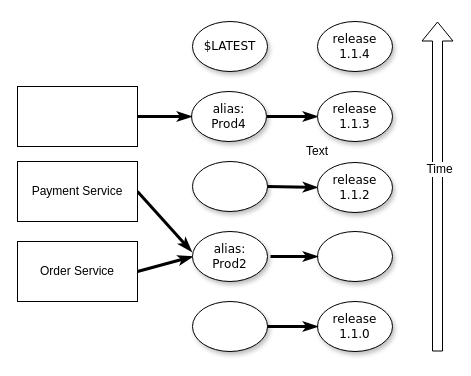
This 471x376 diagram has some shape labels left out. The centre of each missing label's shape, as x and y in pixels:
alias: Prod1: the point at 231,327
alias: Prod3: the point at 231,187
release 1.1.1: the point at 355,257
User Service: the point at 77,116
